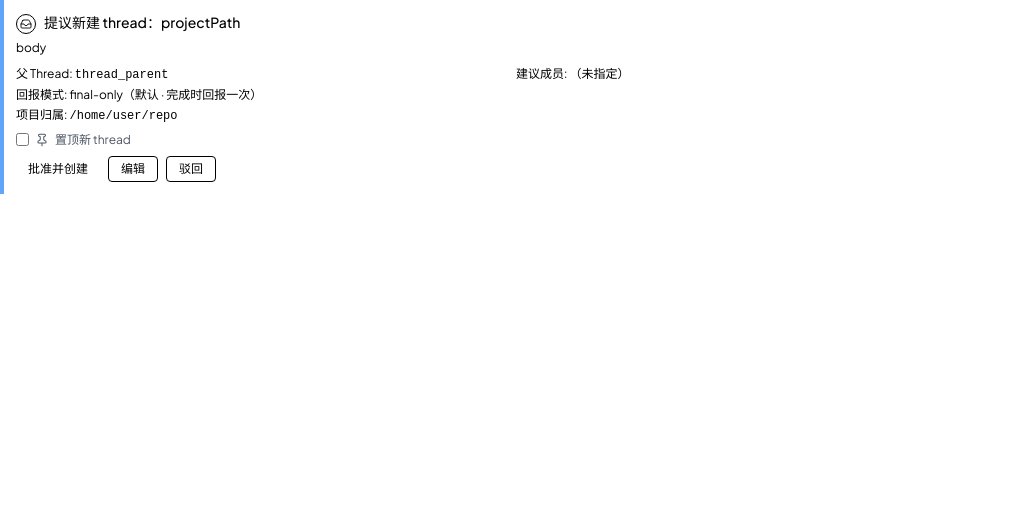
Test: ProposalCard — projectPath ownership › prefills a real project path into the editable input
Click the button "编辑" at [133, 168], box [108, 156, 158, 182]
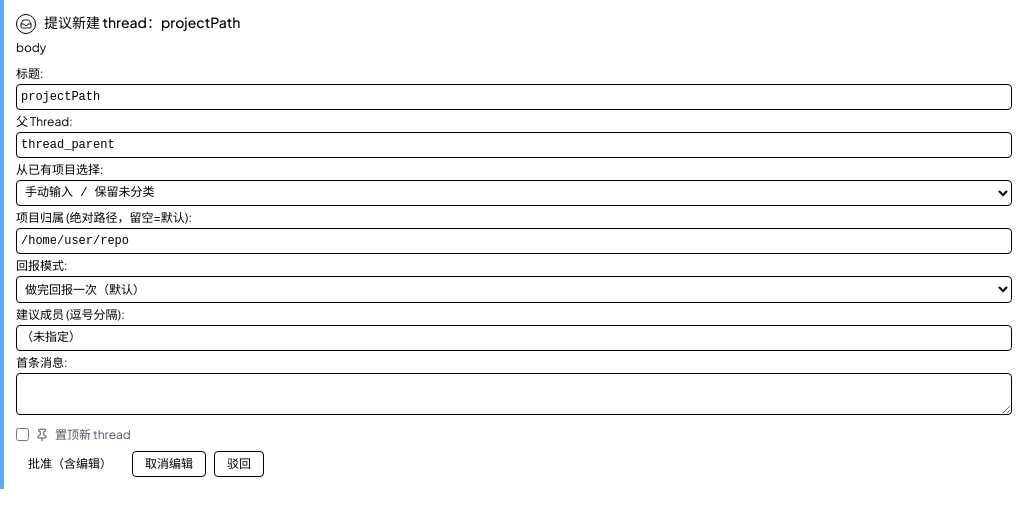
Expected: the field labelled "项目归属 (绝对路径，留空=默认):" holds "/home/user/repo", [16, 228, 1012, 254]
